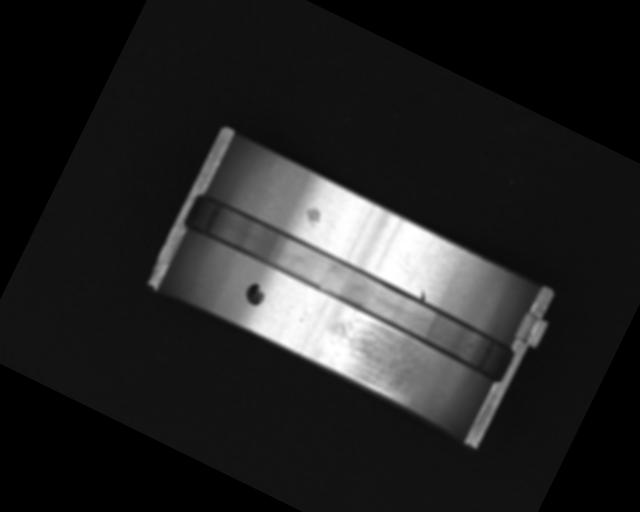blot: (240, 279, 268, 309)
bruise: (298, 202, 325, 231), (417, 288, 429, 302)
gap: (179, 190, 521, 384)
scratch: (312, 304, 432, 404)
